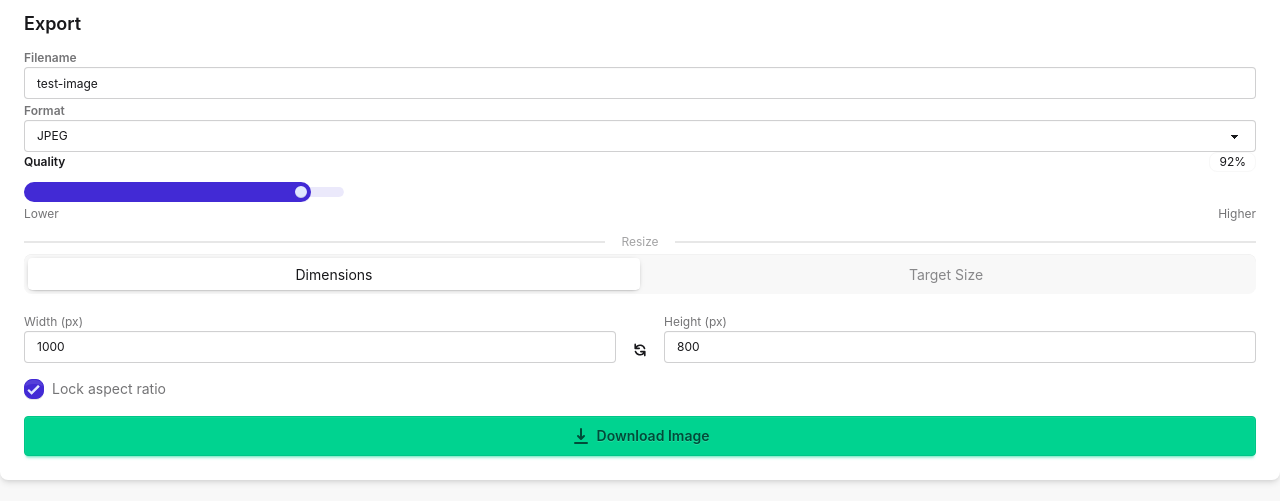
Test case: ExportControls - Resize Section › should switch to target size mode
Click the tab "Target Size" at {"x": 946, "y": 274}, box [909,266,983,283]
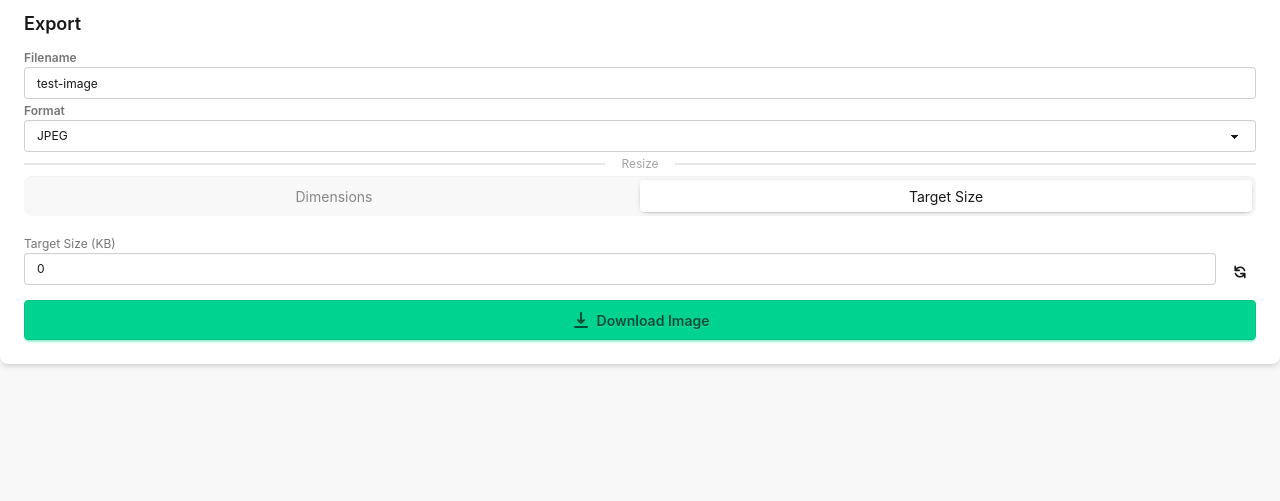
Result: the text "Target Size (KB)" is shown at [24,236,116,252]
